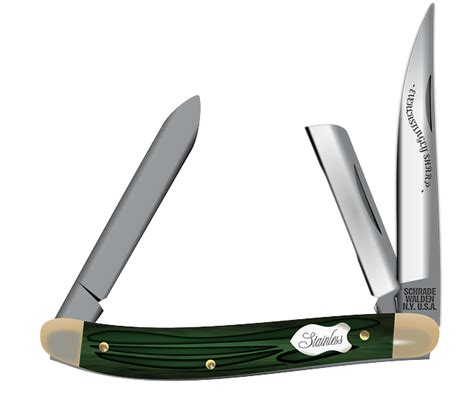knife: (52, 94, 201, 321), (306, 126, 404, 312), (397, 1, 442, 314)
